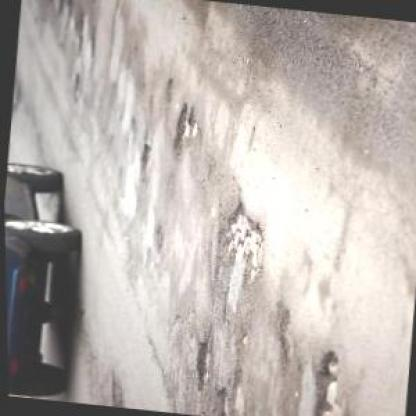pothole: (214, 198, 272, 284), (168, 100, 205, 161), (187, 334, 212, 387), (136, 140, 151, 172)
